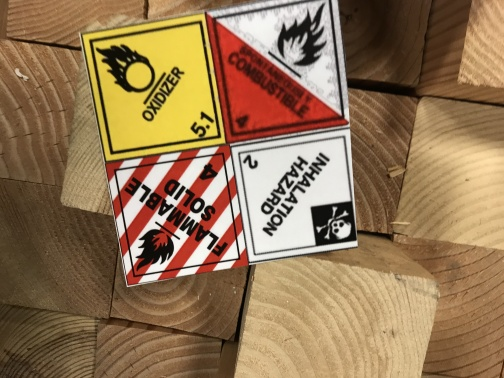FlammableSolid: (106, 144, 248, 288)
InhalationHazard: (232, 129, 360, 262)
Oxidizer: (82, 13, 226, 160)
SpontaneouslyCombustible: (207, 1, 351, 139)
